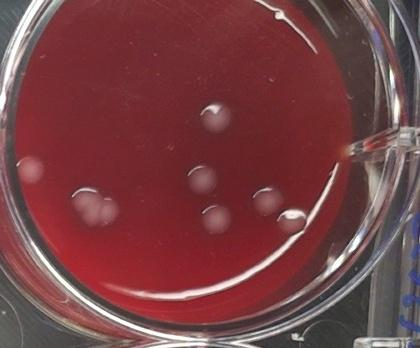pddamselae: (68, 184, 122, 231), (196, 97, 236, 140), (184, 161, 220, 200), (250, 184, 285, 219), (13, 152, 46, 185), (199, 205, 233, 236), (277, 207, 309, 235)
